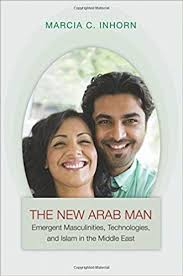middle_eastern_male: (91, 89, 152, 161)
